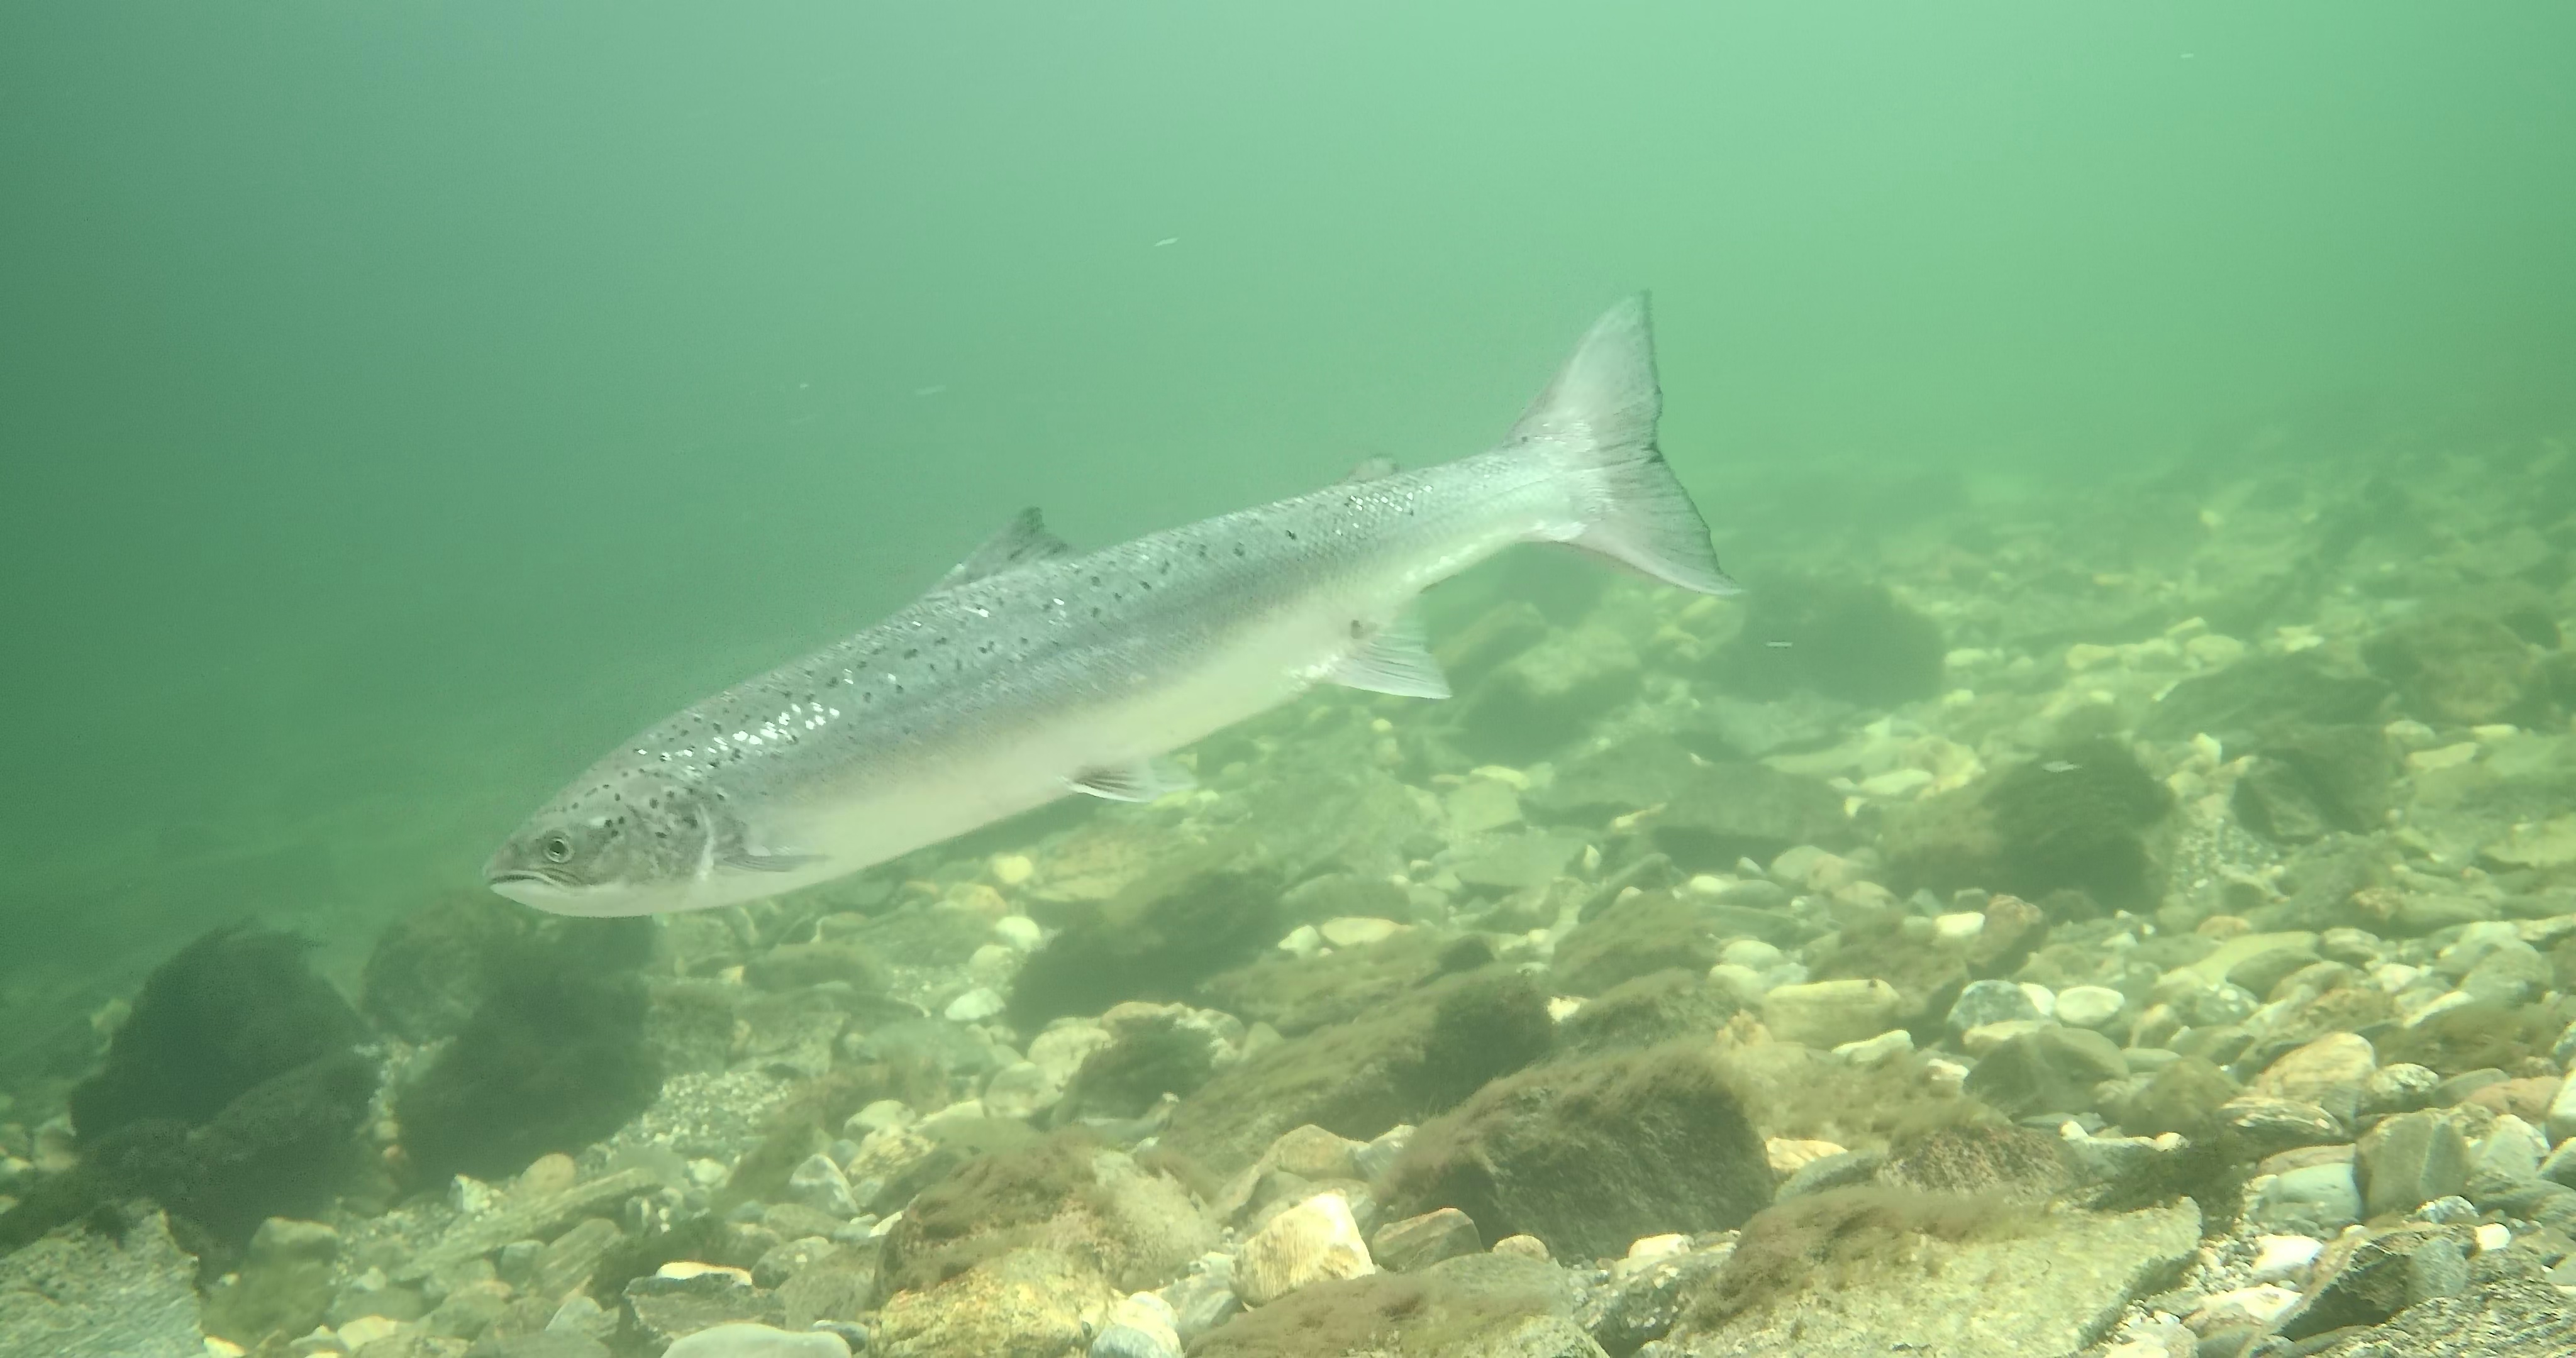salmon: (475, 281, 1746, 924)
